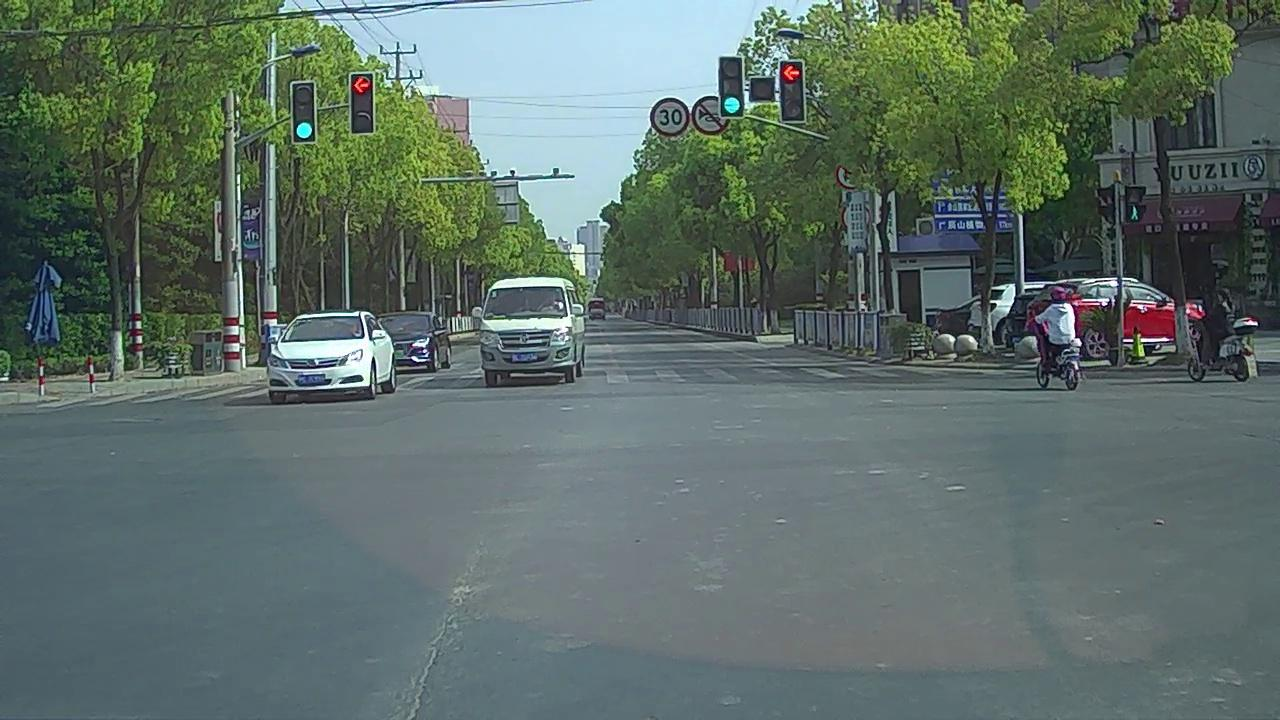traffic_light: (292, 83, 317, 143), (351, 71, 375, 133), (783, 60, 804, 121), (722, 58, 741, 117)
